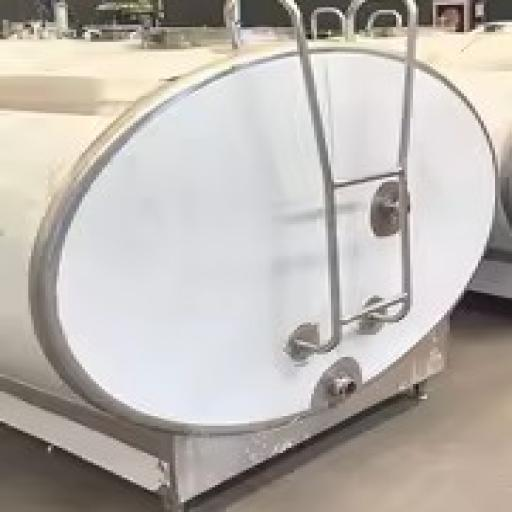silo: (0, 27, 500, 497)
